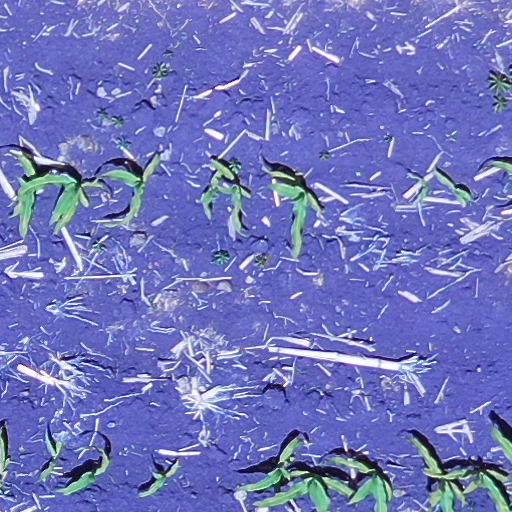planta: (18, 171, 102, 231), (268, 169, 322, 256), (105, 154, 163, 224), (239, 438, 310, 492), (210, 157, 250, 232), (60, 449, 110, 493), (13, 151, 36, 234), (201, 167, 232, 214), (433, 169, 471, 203), (141, 462, 178, 496)
